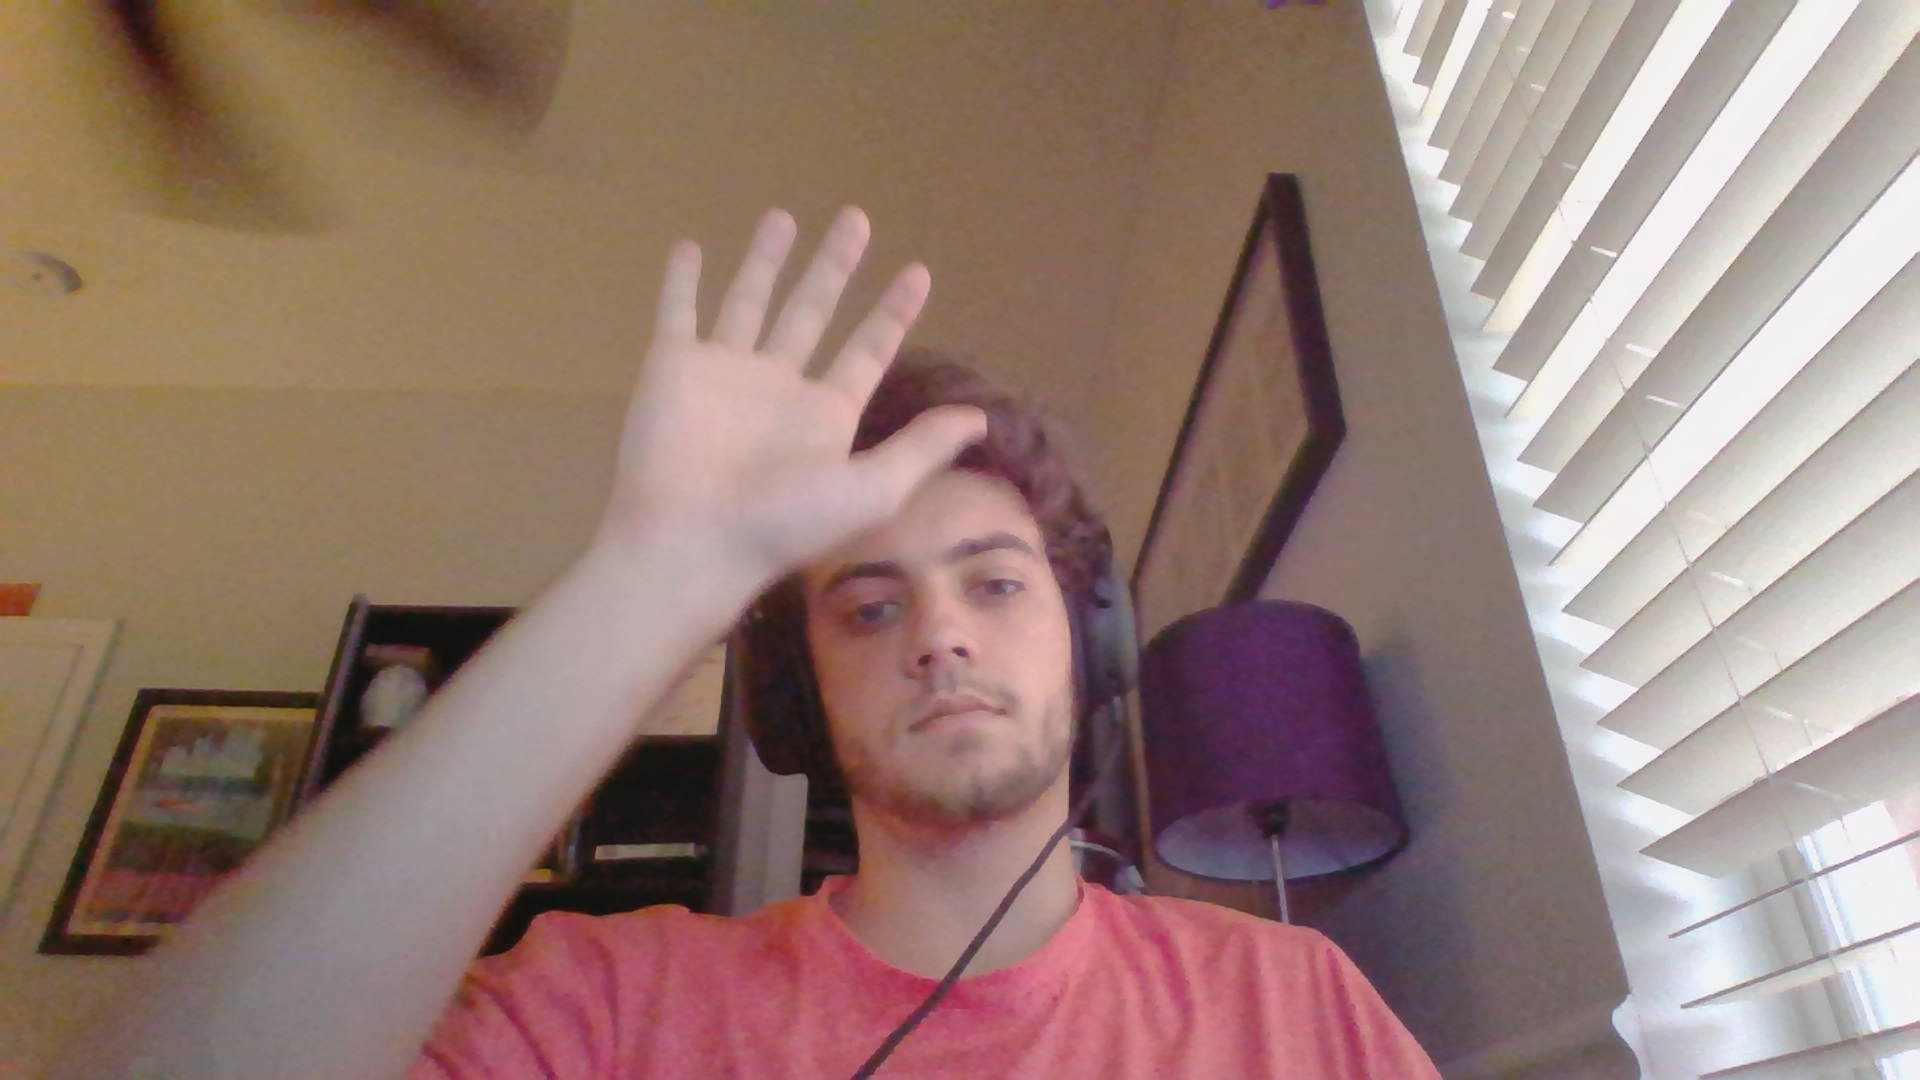Right Palm Up: (597, 193, 992, 578)
